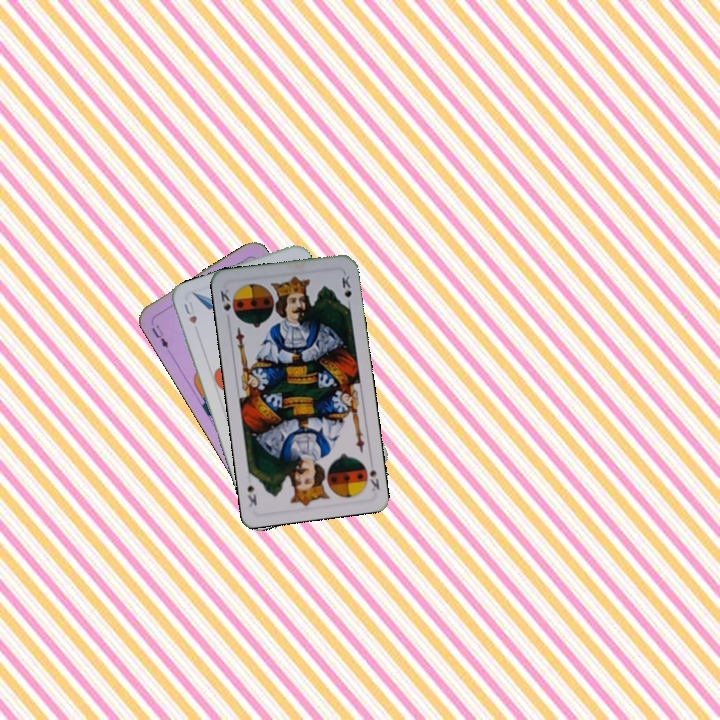EU: (147, 320, 171, 351)
HU: (180, 297, 199, 326)
SK: (216, 285, 238, 319), (366, 465, 382, 493)
